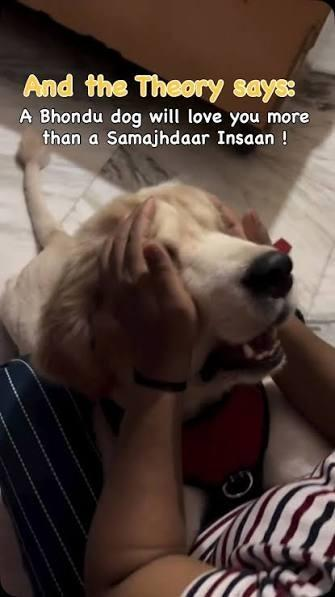adult_dog: (0, 141, 304, 398)
